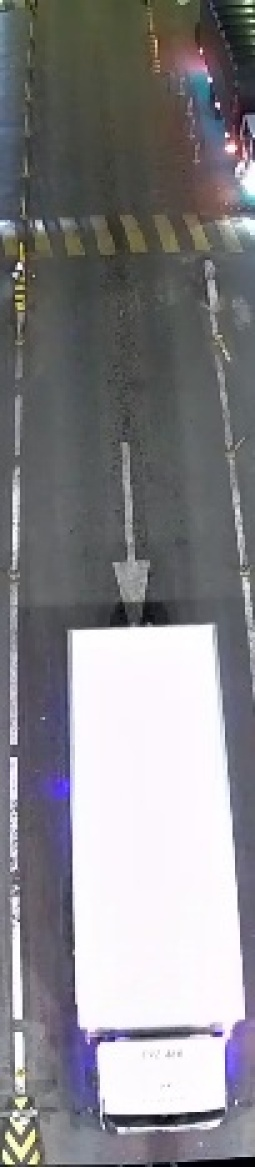truck: (49, 612, 248, 1142)
